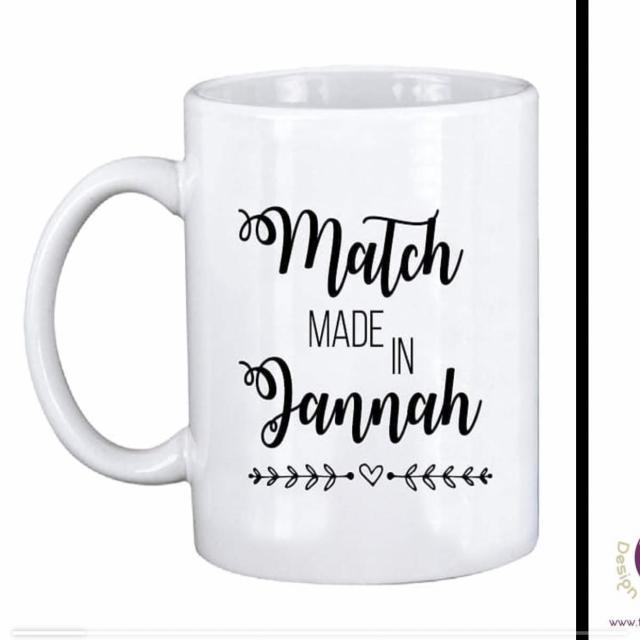cup: (29, 76, 567, 594)
